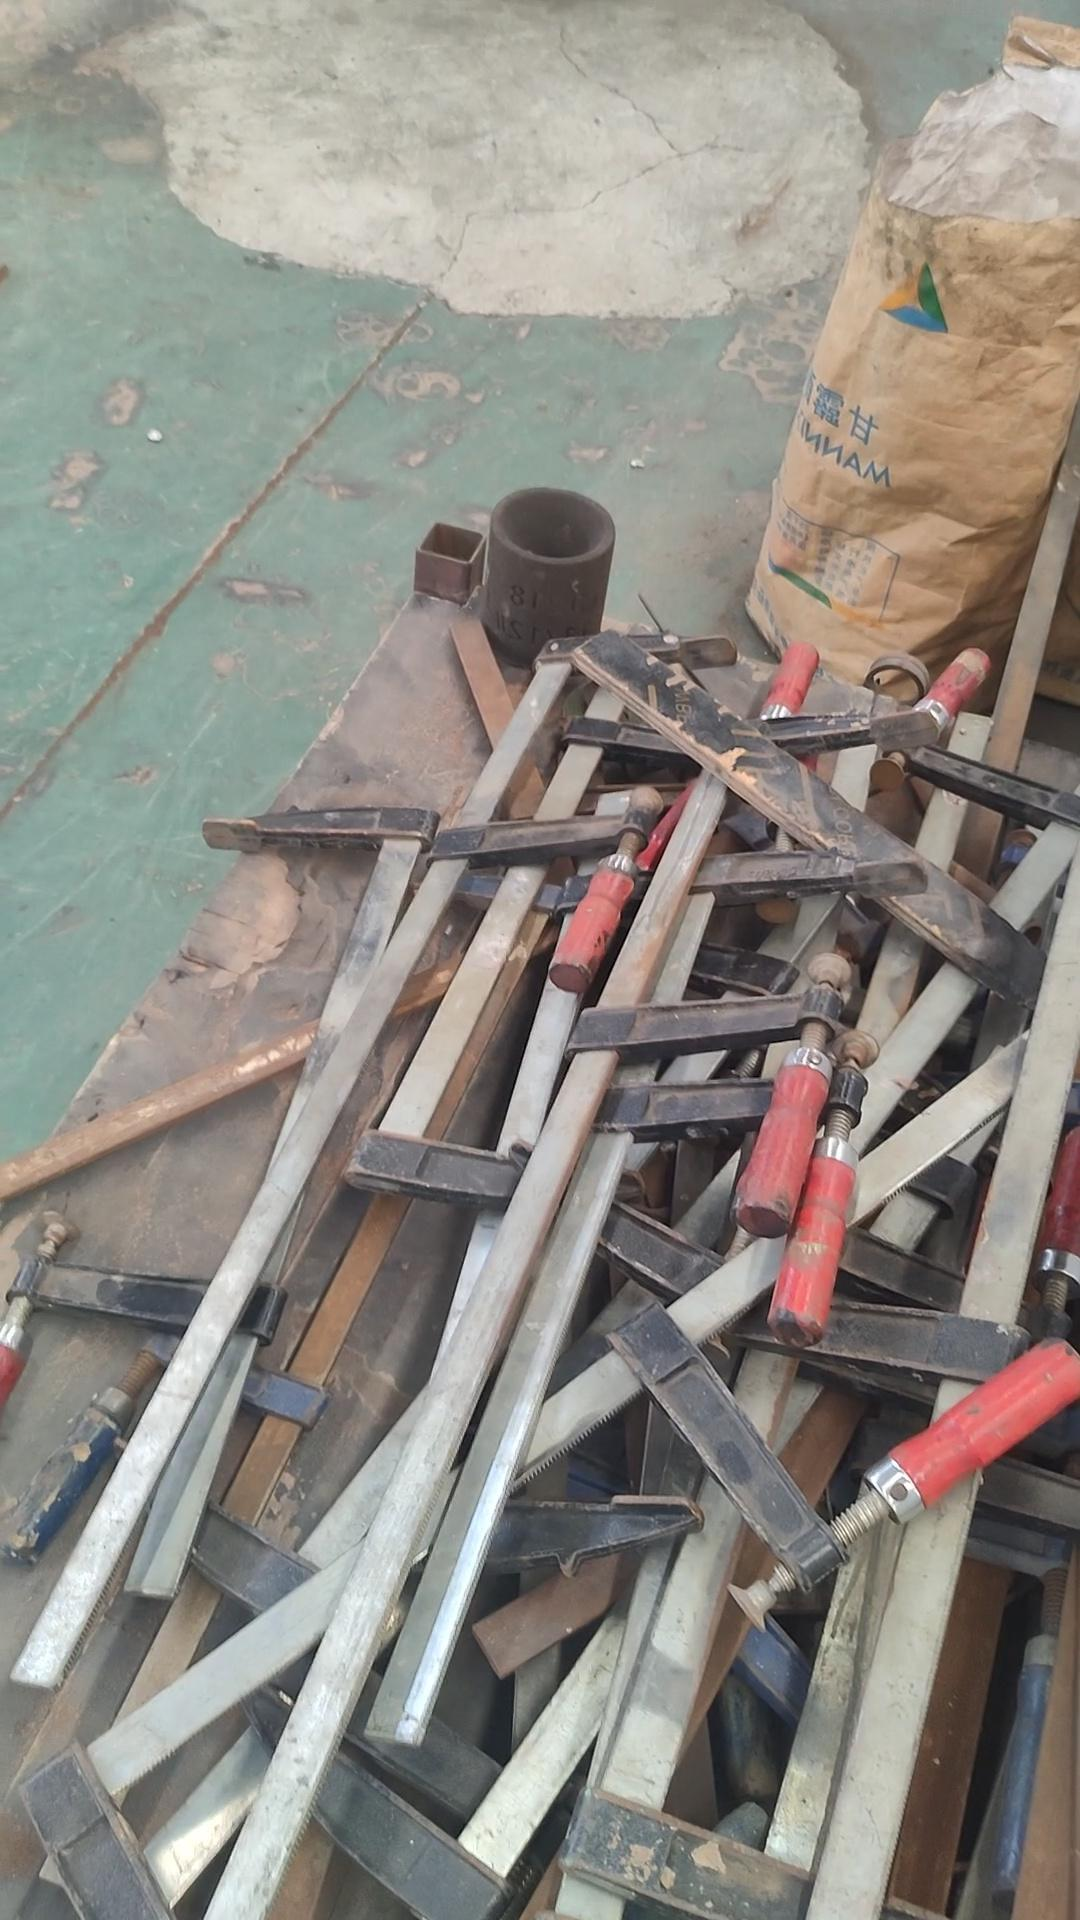pouring hole: (491, 488, 615, 563)
